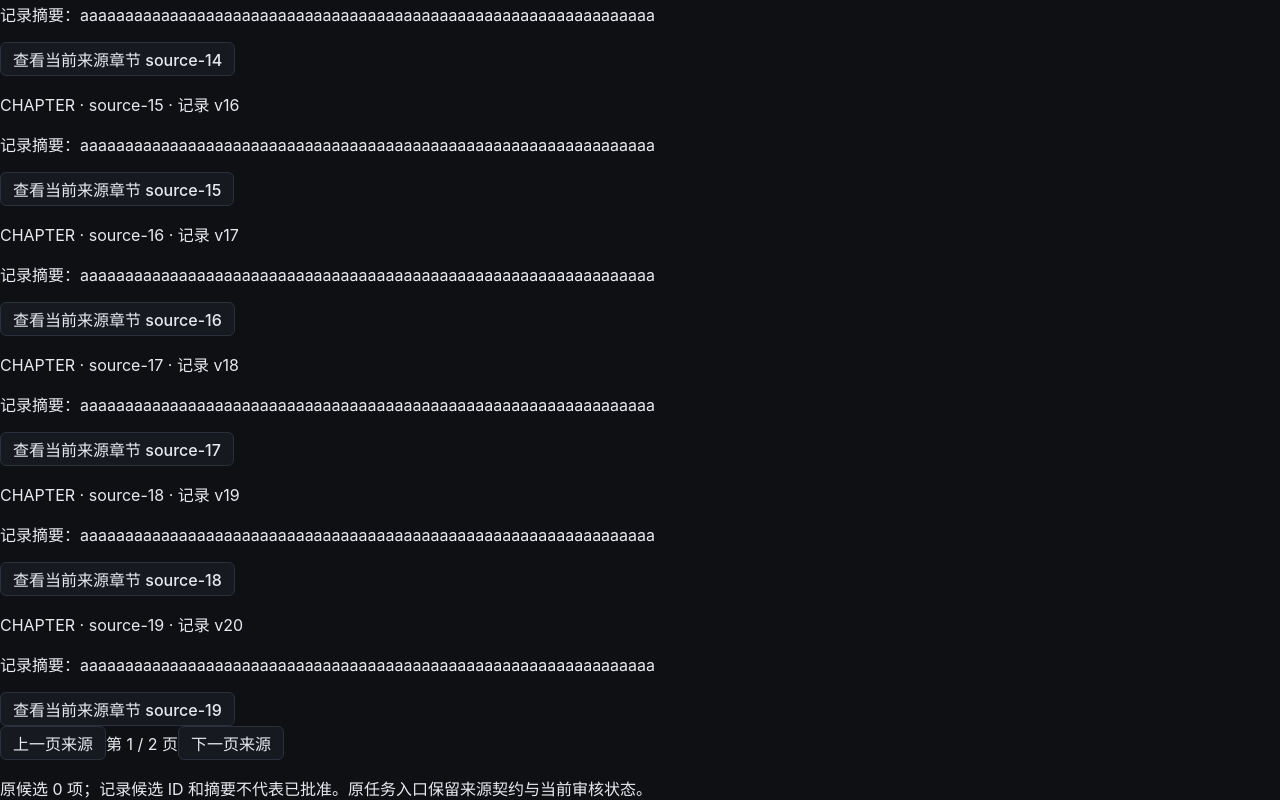
paginates source pins and withholds unavailable source navigation and evidence
(page scrolled)
expect the button "查看当前来源章节 source-20" is not shown: met
Click the button "下一页来源" at (231, 743), box [178, 726, 284, 760]
(page scrolled)
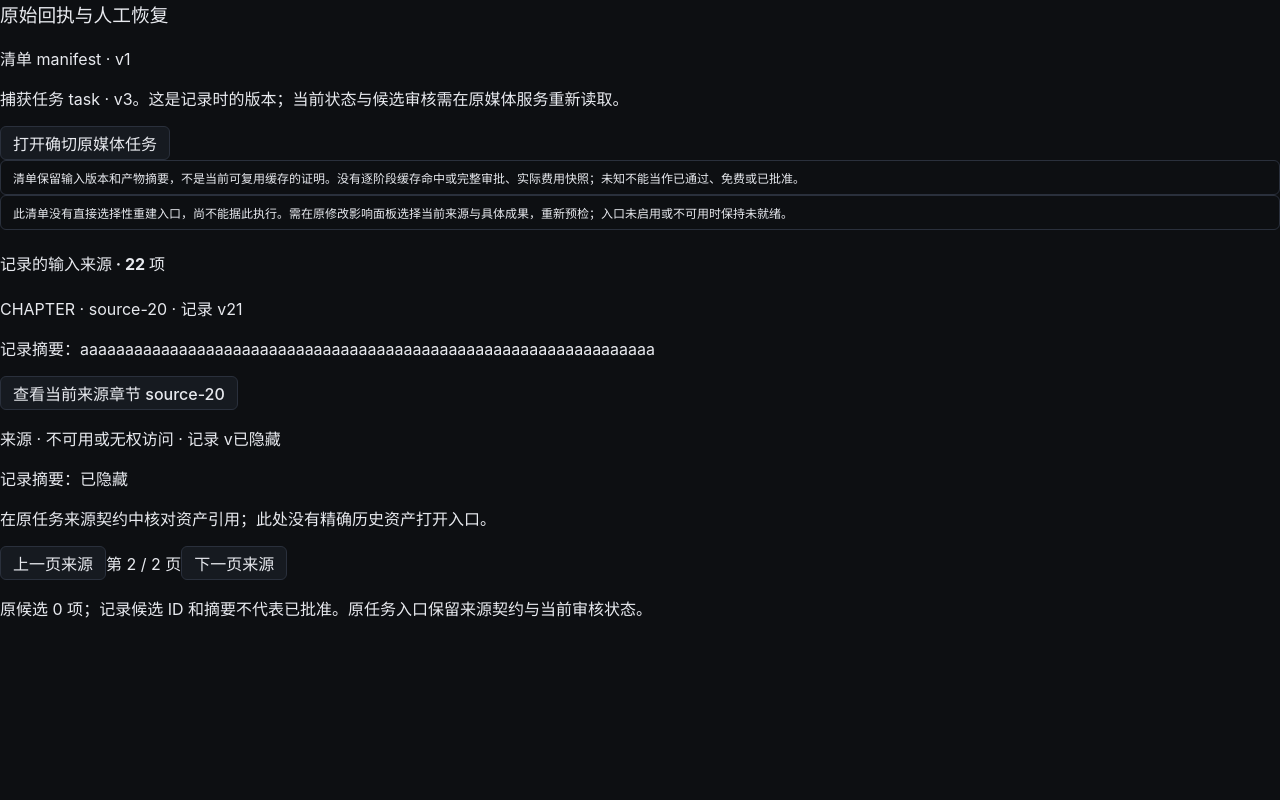
expect the button "查看当前来源章节 source-20" is shown: met, box [0, 376, 238, 410]
